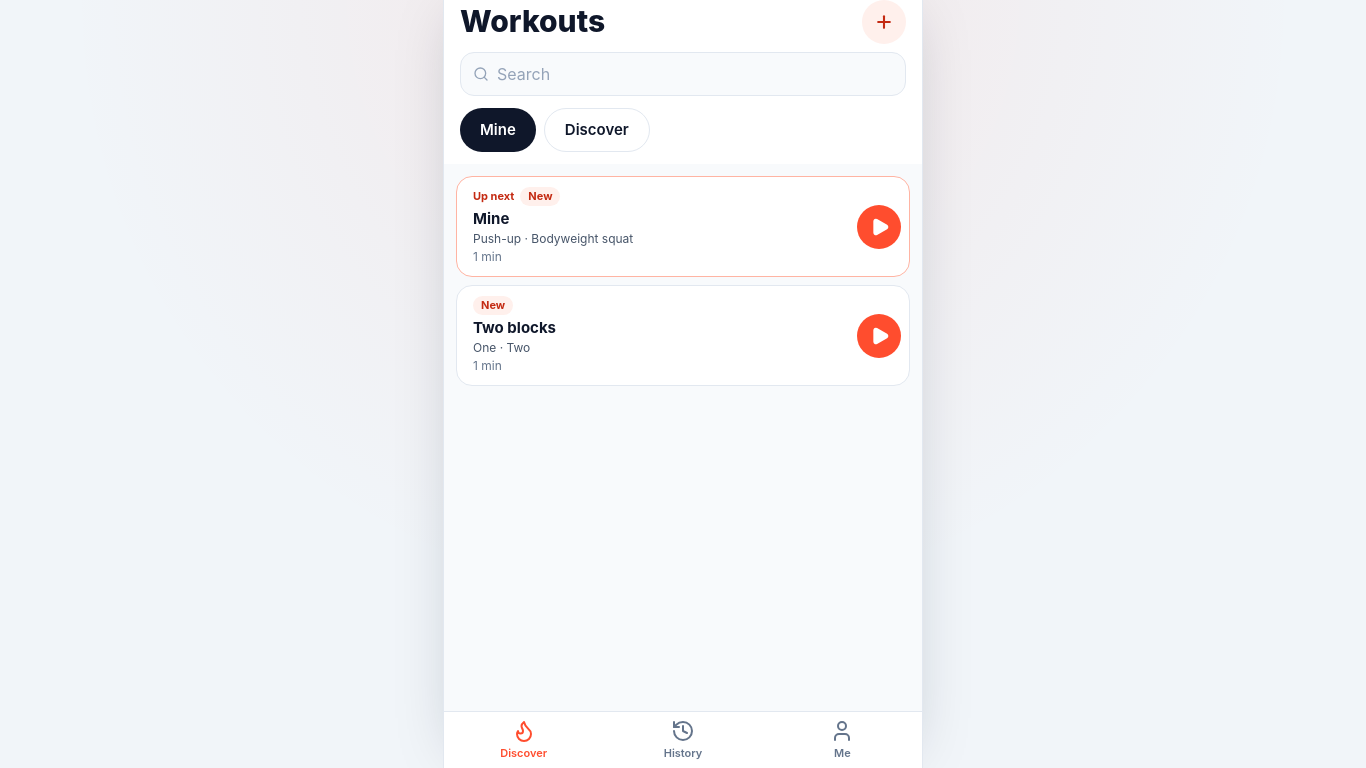
Test case: undo in the timer › is gone once the session is done, so a finished run cannot come back
Click the button "Mine Up next New Push-up · Bodyweight squat 1 min" at (491, 218), box [457,177,849,276]
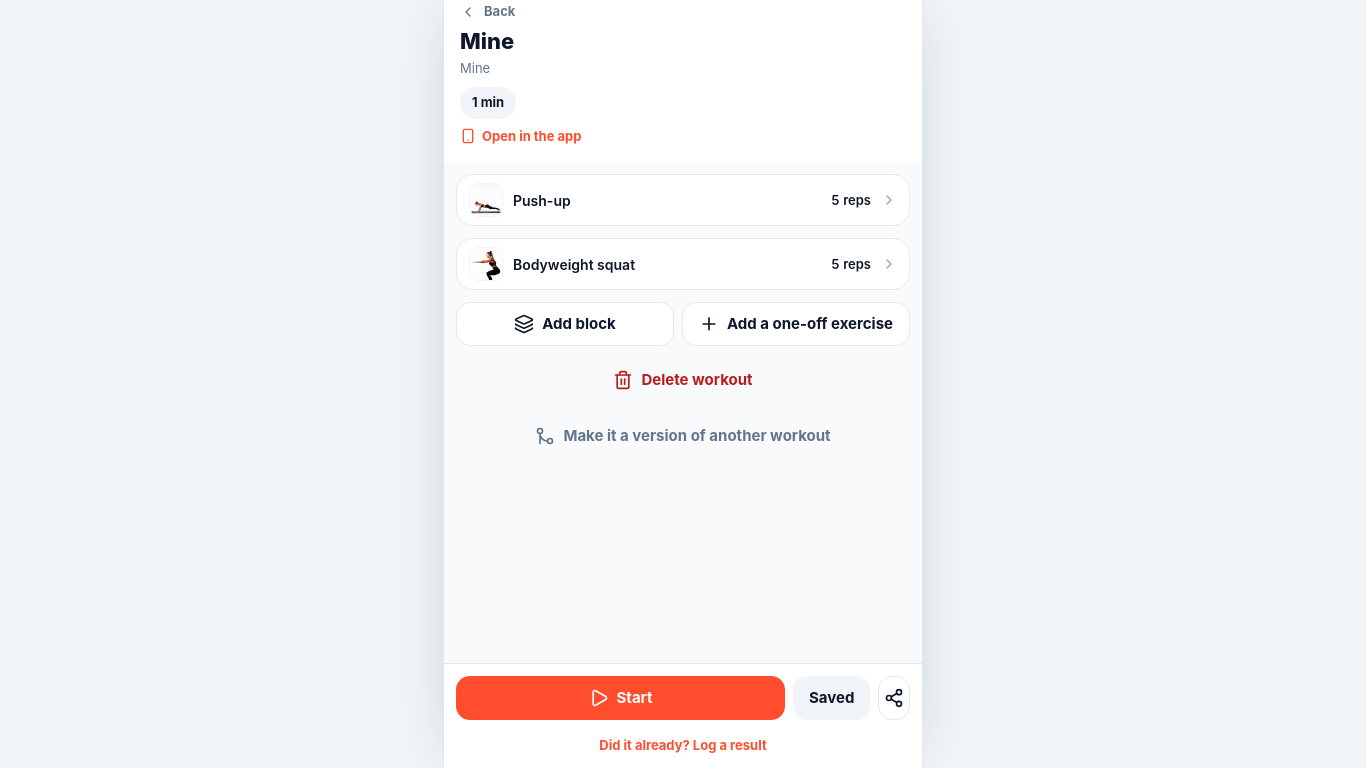
Click the button "Start" at (620, 698), box [456,676,785,720]
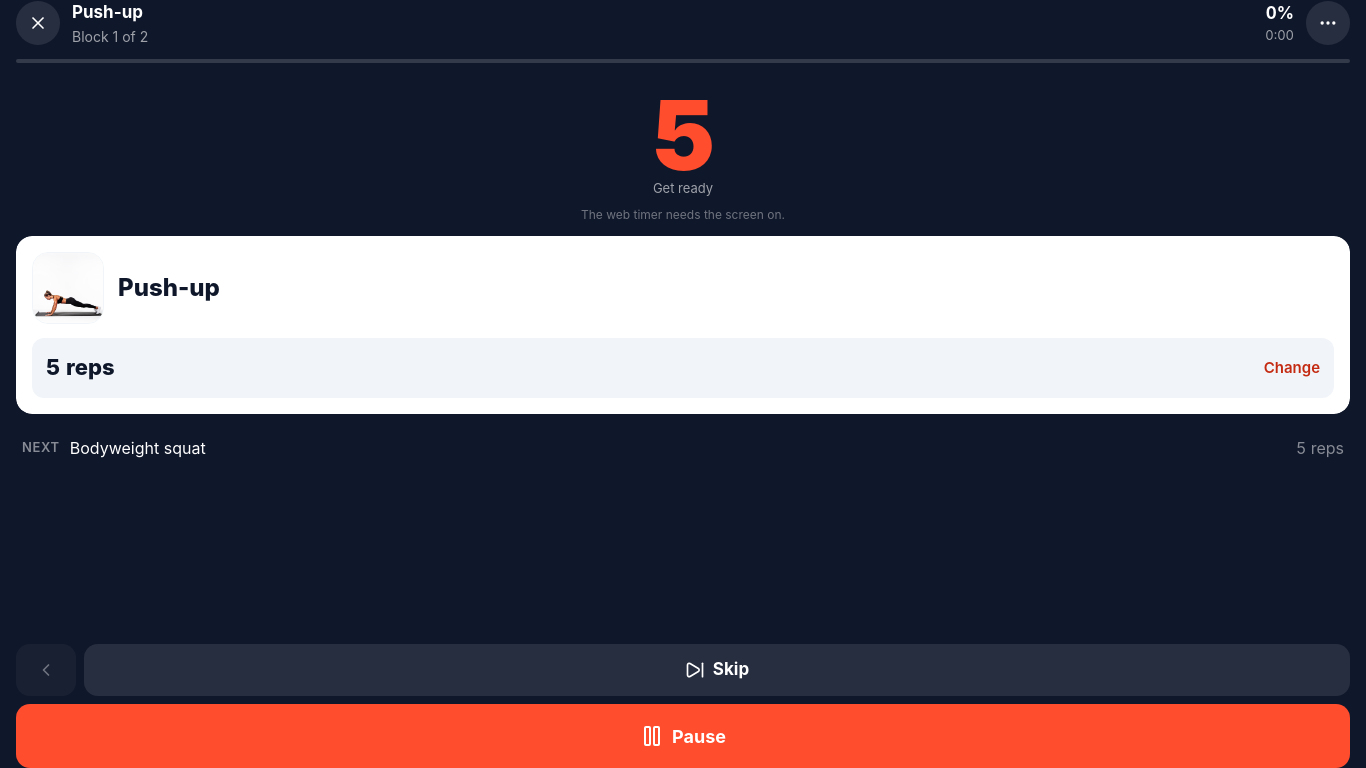
Click the button "Skip" at (717, 670), box [84,644,1350,696]
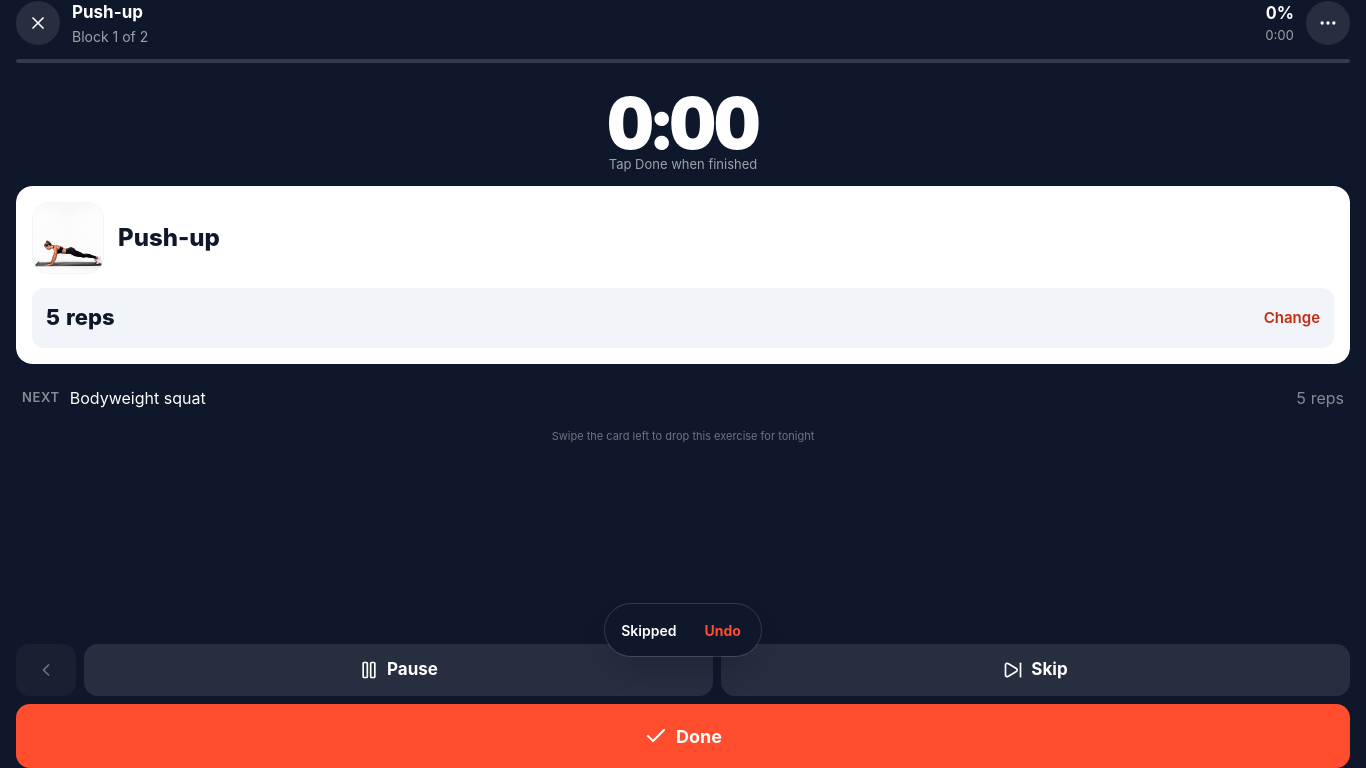
Click the button named "More" at (1328, 23), box [1306,1,1350,45]
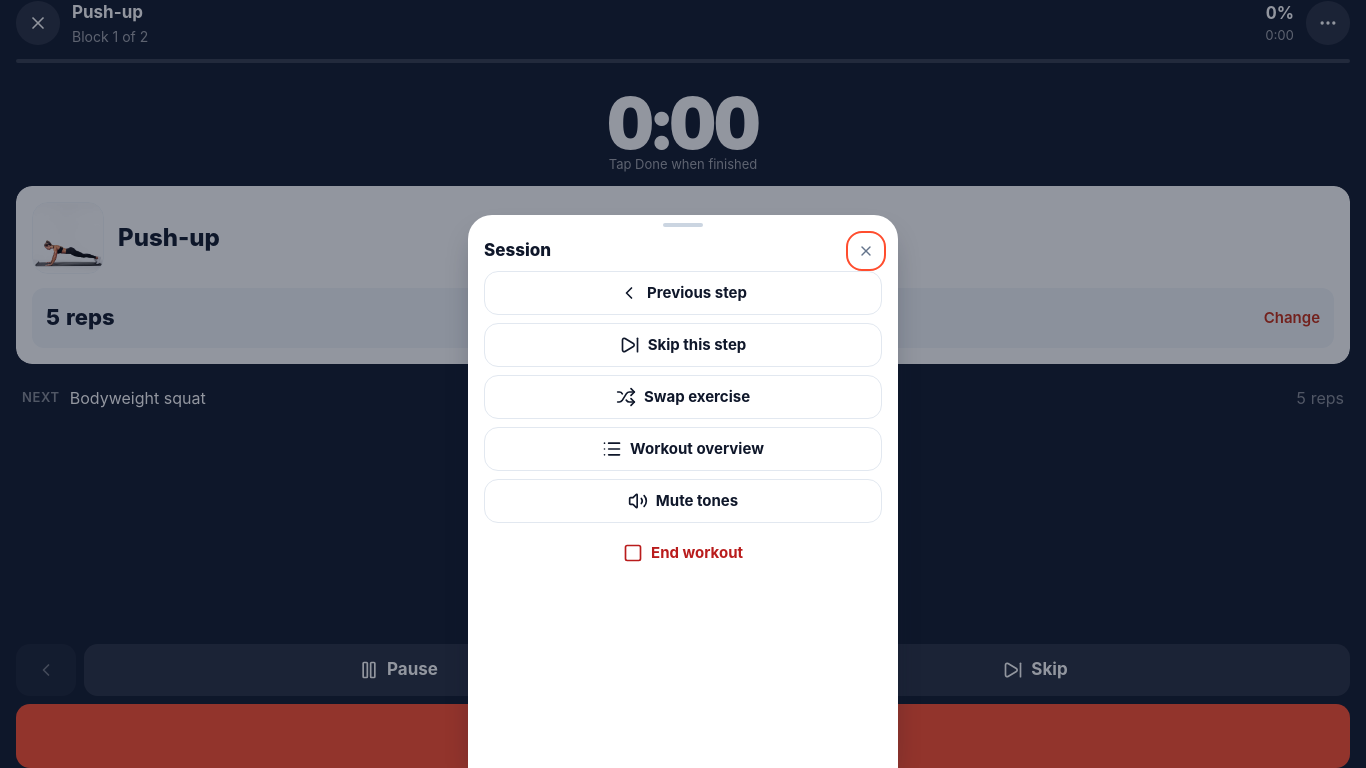
Click the button "Skip this step" at (683, 345), box [484,323,882,367]
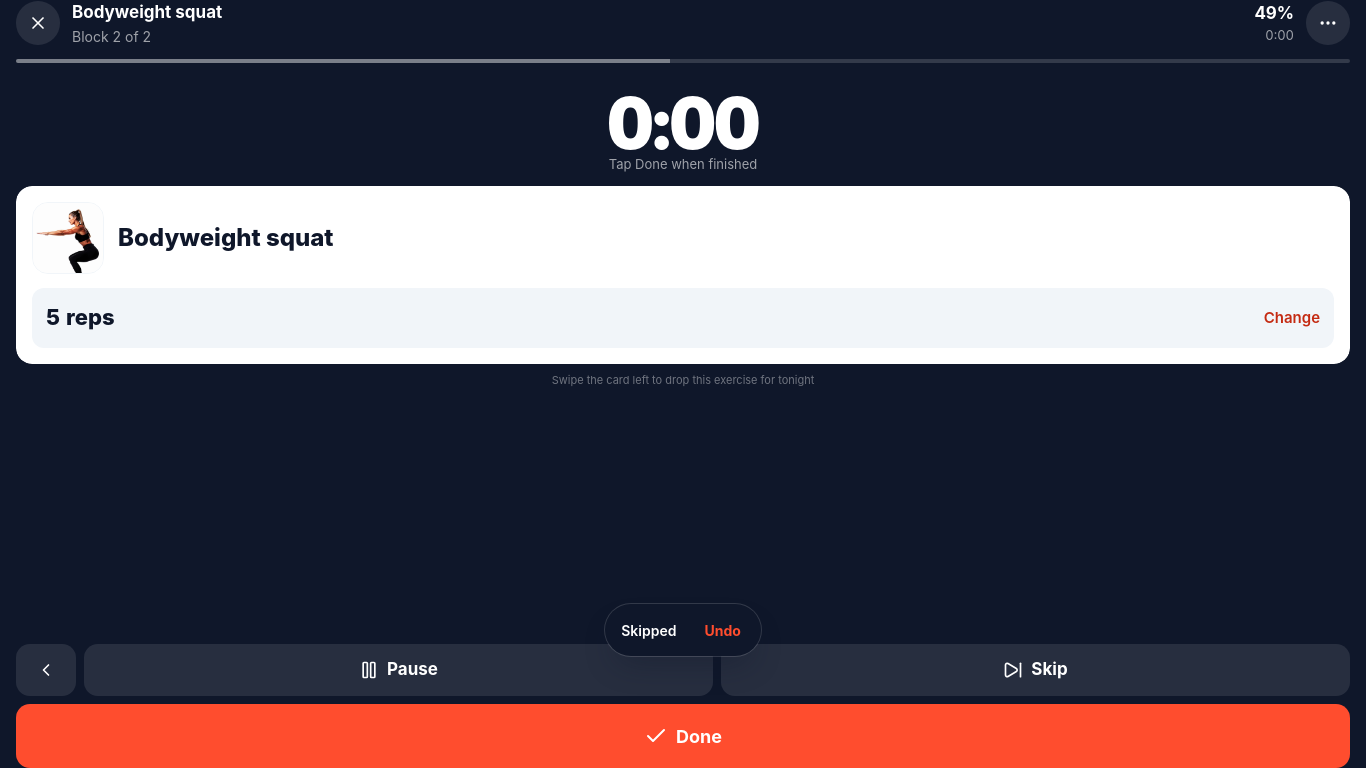
Now the button "Undo" is shown, box [688,608,757,652]
Click the button "Done" at (683, 736), box [16,704,1350,767]
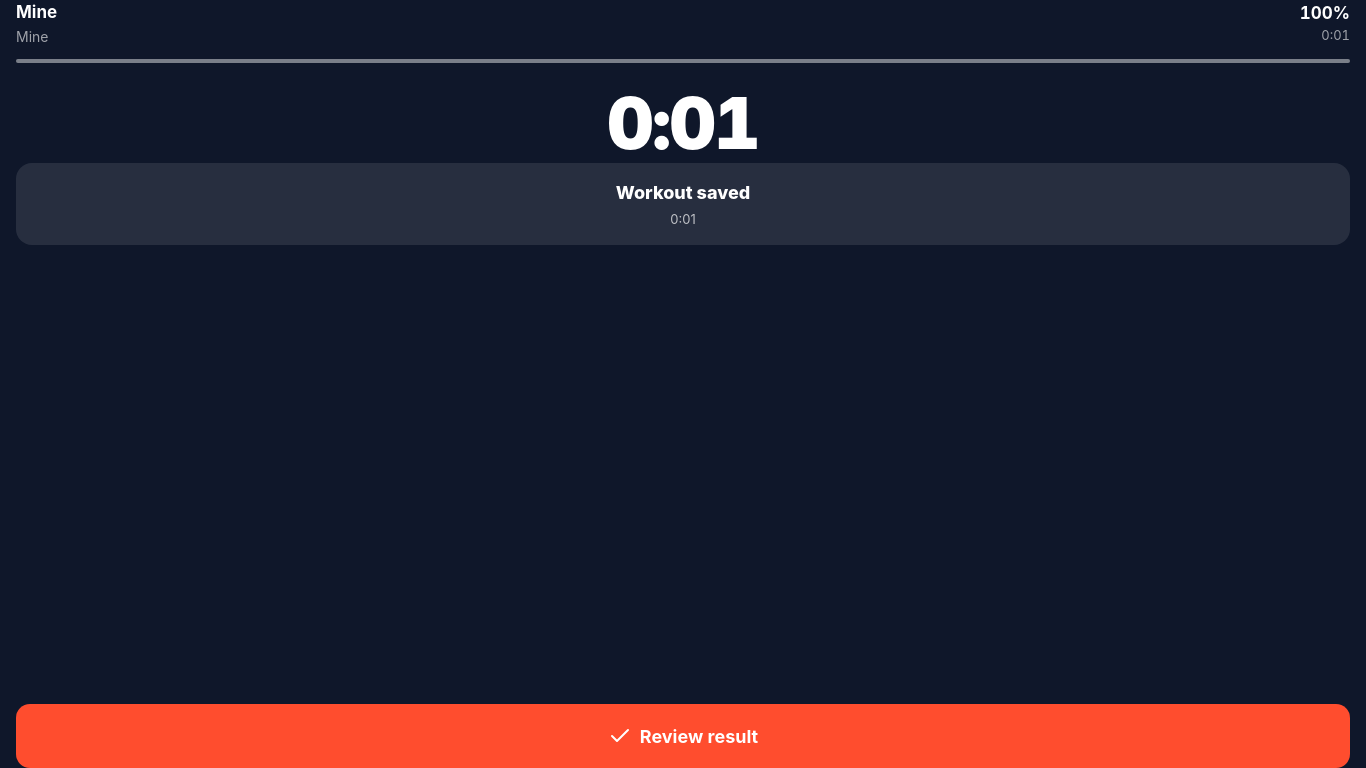
Now the text "Workout saved" is shown, box [616,182,750,202]
Now the button "Undo" is gone
